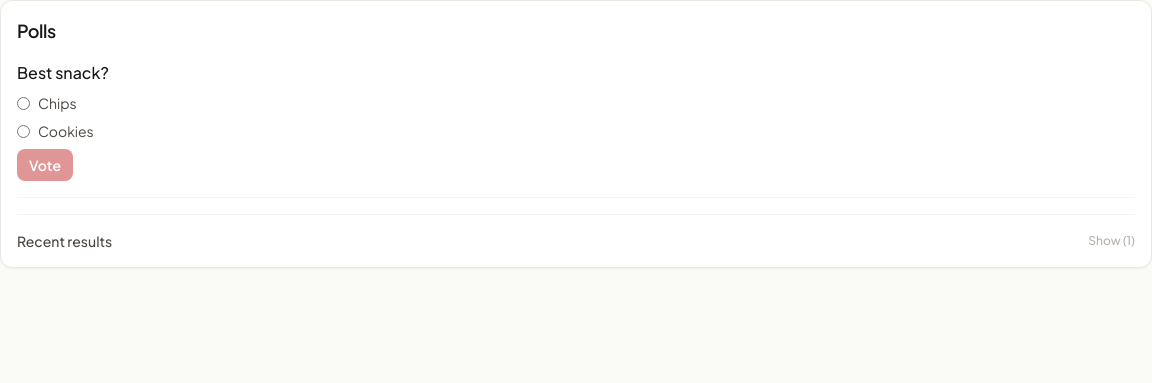
Test case: PollWidget › recent results › shows a collapsed Recent results section and expands to percentage bars
Check: the text "Office music?" is not shown
What coordinates should you click on to do the following:
click the button "Recent results Show (1)"
I would click on:
 (65, 241)
Its box is left=17, top=231, right=1135, bottom=251.
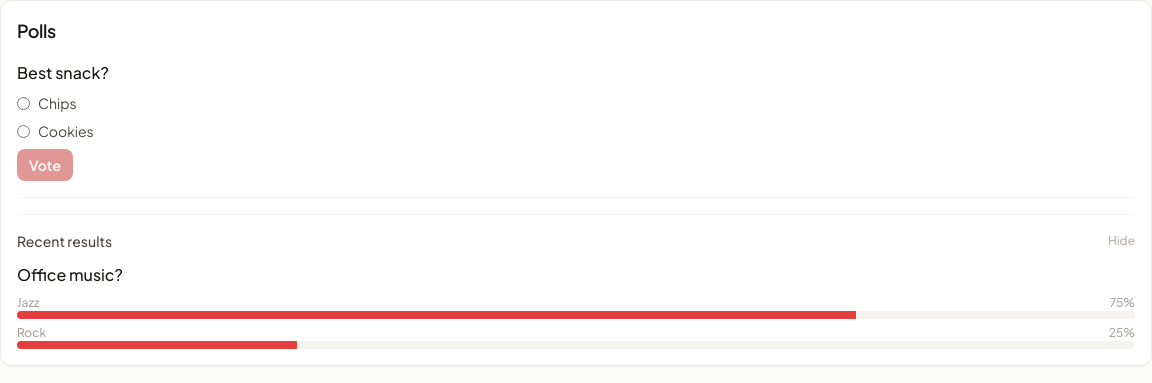
Check: the text "Office music?" is shown, box left=17, top=264, right=123, bottom=285
Check: the text "75%" is shown, box left=1110, top=295, right=1135, bottom=311
Check: the text "25%" is shown, box left=1109, top=325, right=1135, bottom=341
